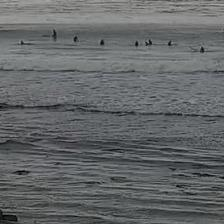surfer: (20, 41, 31, 46), (52, 29, 57, 36), (200, 46, 205, 52), (100, 39, 105, 45), (74, 35, 78, 42), (168, 40, 172, 46), (148, 40, 152, 46), (134, 40, 138, 46)
